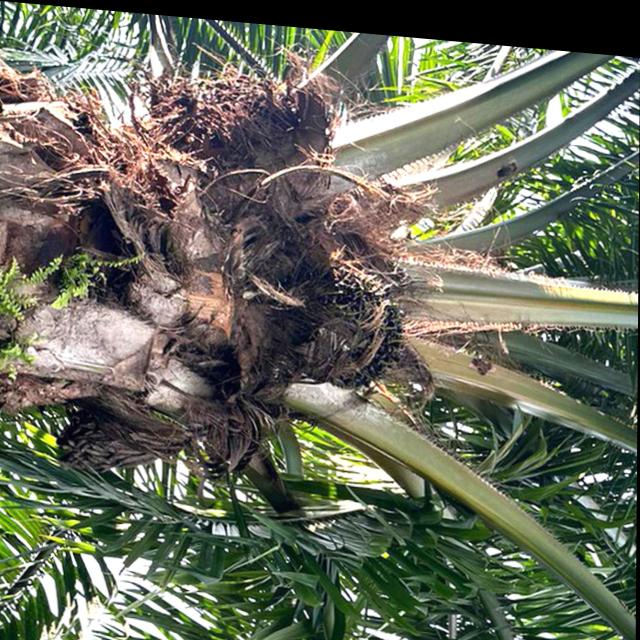ripe: (302, 259, 419, 385)
